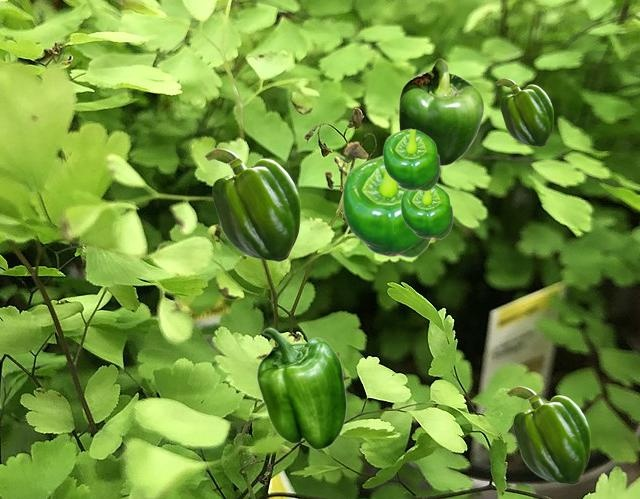bell_pepper: (256, 327, 346, 449), (204, 148, 299, 260), (341, 155, 433, 257), (398, 58, 483, 165), (506, 386, 589, 483), (495, 78, 552, 145), (382, 128, 439, 190), (400, 184, 452, 238)
